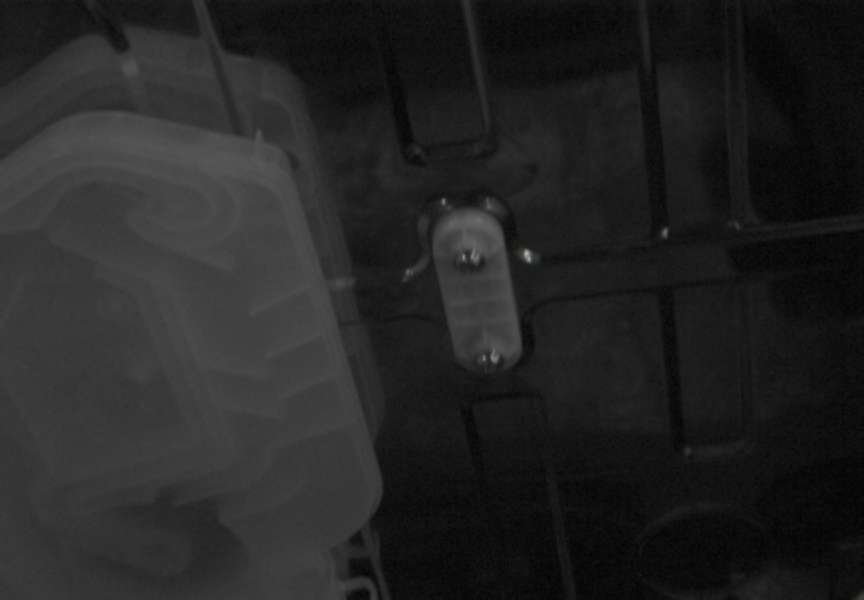screw: (474, 348, 505, 374), (454, 247, 486, 272)
